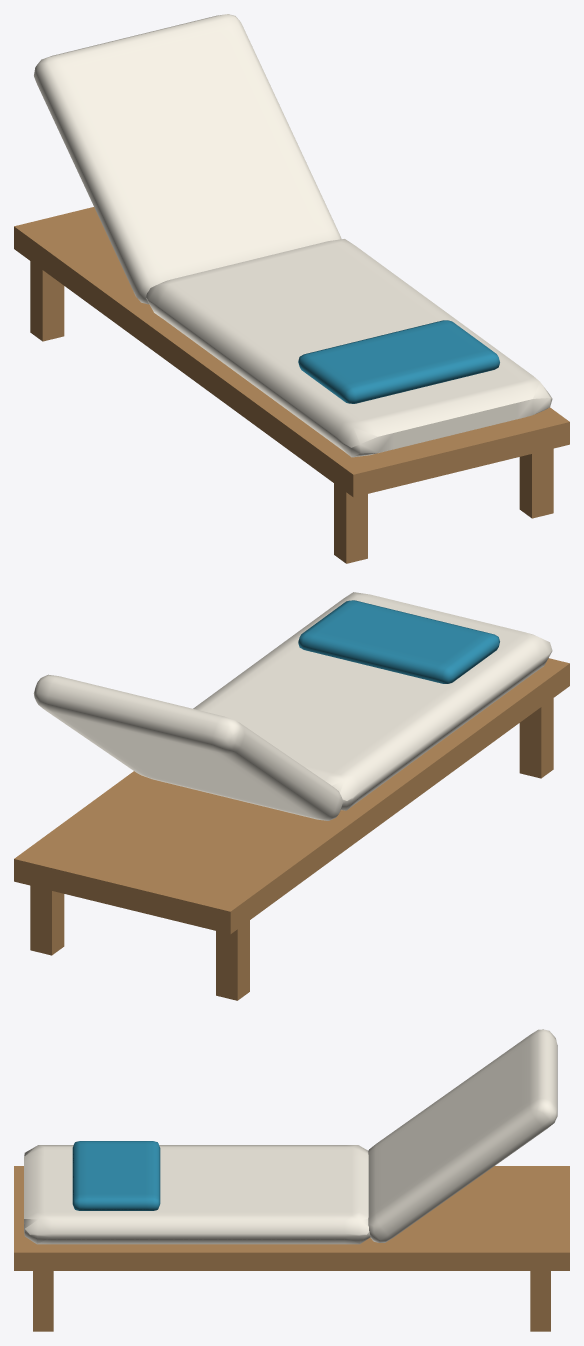
File: sunbed.glb
3 renders of one model, top to bottom at view 1: azimuth 30°, elevation 25°; view 2: azimuth 150°, elevation 25°; view 3: azimuth 270°, elevation 25°, orthographic. The views are drawn at different scales.
Parts seen in each view (by area): view 1: cushion6, cushion5, wood0, towel7, wood3, wood1, wood4; view 2: wood0, cushion5, cushion6, towel7, wood1, wood3, wood2; view 3: cushion5, wood0, cushion6, towel7, wood2, wood4.
Part boxes in pixels (<box>): cushion6: <box>34,14,341,304</box>; cushion5: <box>146,239,552,457</box>; wood0: <box>14,207,569,497</box>; towel7: <box>298,320,499,403</box>; wood3: <box>334,483,367,563</box>; wood1: <box>30,261,64,341</box>; wood4: <box>519,448,553,518</box>; wood0: <box>14,658,569,934</box>; cushion5: <box>193,592,552,810</box>; cushion6: <box>33,674,342,820</box>; towel7: <box>298,600,499,683</box>; wood1: <box>216,920,249,1000</box>; wood3: <box>519,698,553,778</box>; wood2: <box>30,885,64,955</box>; cushion5: <box>24,1145,370,1244</box>; wood0: <box>14,1166,569,1270</box>; cushion6: <box>368,1029,557,1242</box>; towel7: <box>72,1141,160,1210</box>; wood2: <box>530,1271,550,1331</box>; wood4: <box>33,1271,53,1331</box>.
Size of the model in its own units: 0.7 by 0.8472 by 1.9.
